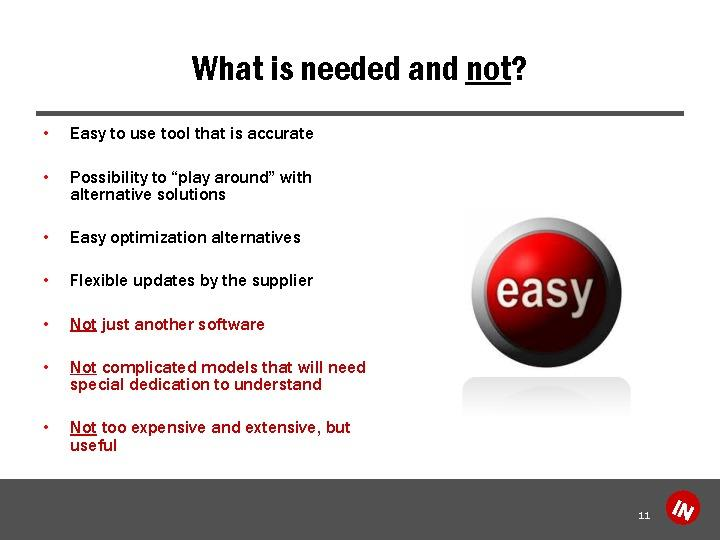paragraph: (36, 119, 410, 464)
title: (175, 39, 547, 96)
